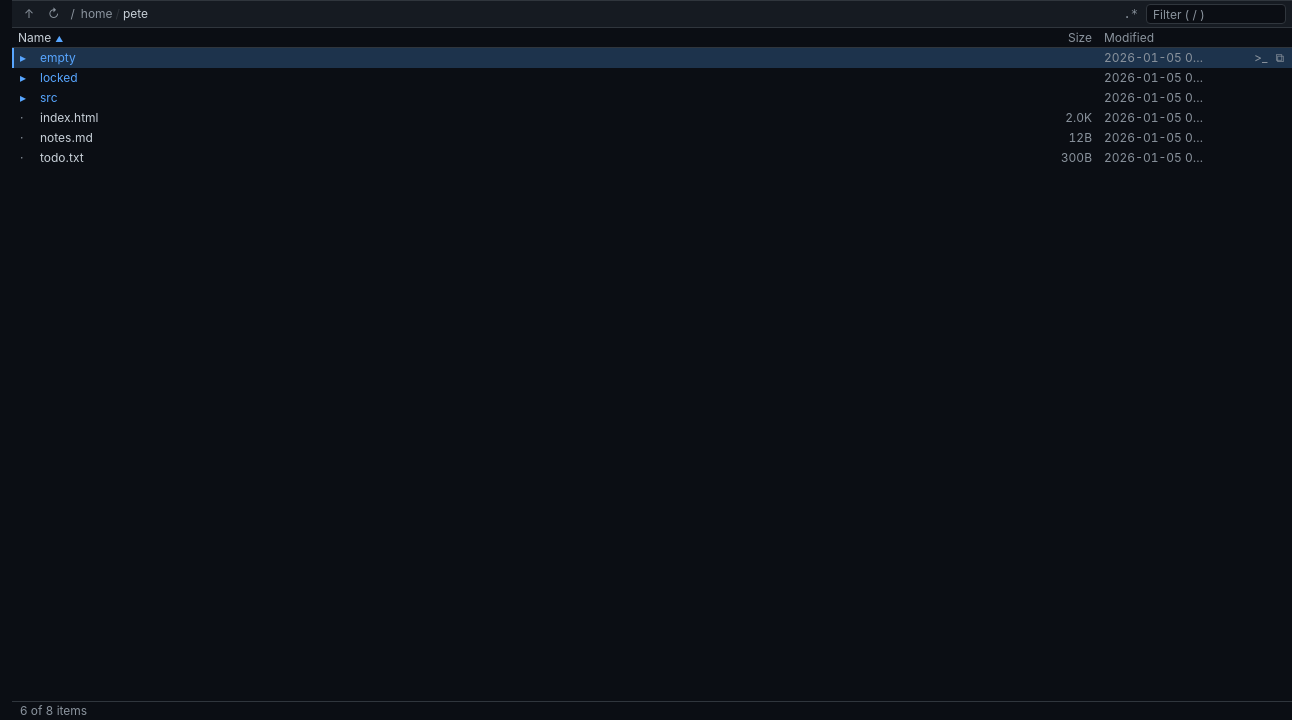
it: FilesPane › narrows the list as the filter is typed
Type "T" into the field named "Filter entries".
click(1216, 14); type("T")  # box [1146,4,1286,24]
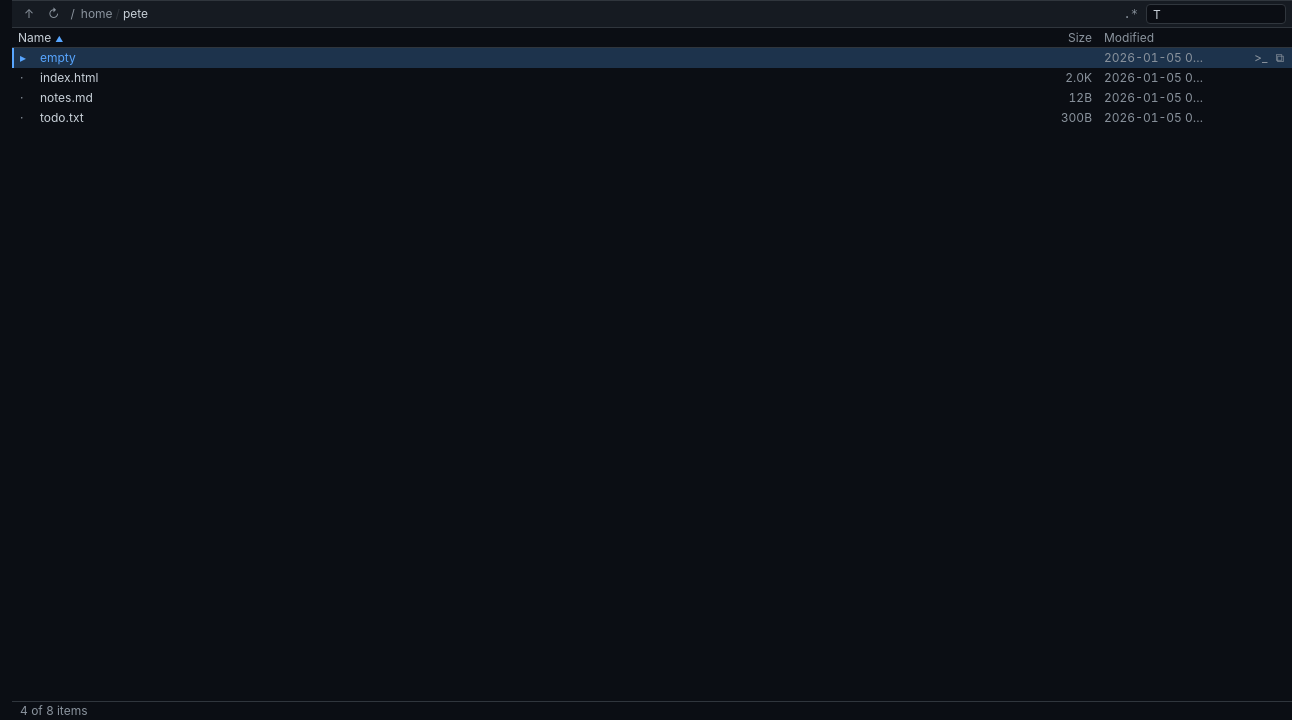
Expected: the message reads "4 of 8 items", [20,703,88,718]
